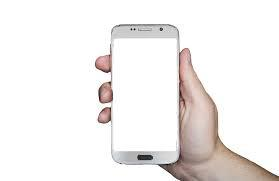Hand: (85, 42, 226, 178)
Smartphone: (112, 23, 181, 167)
